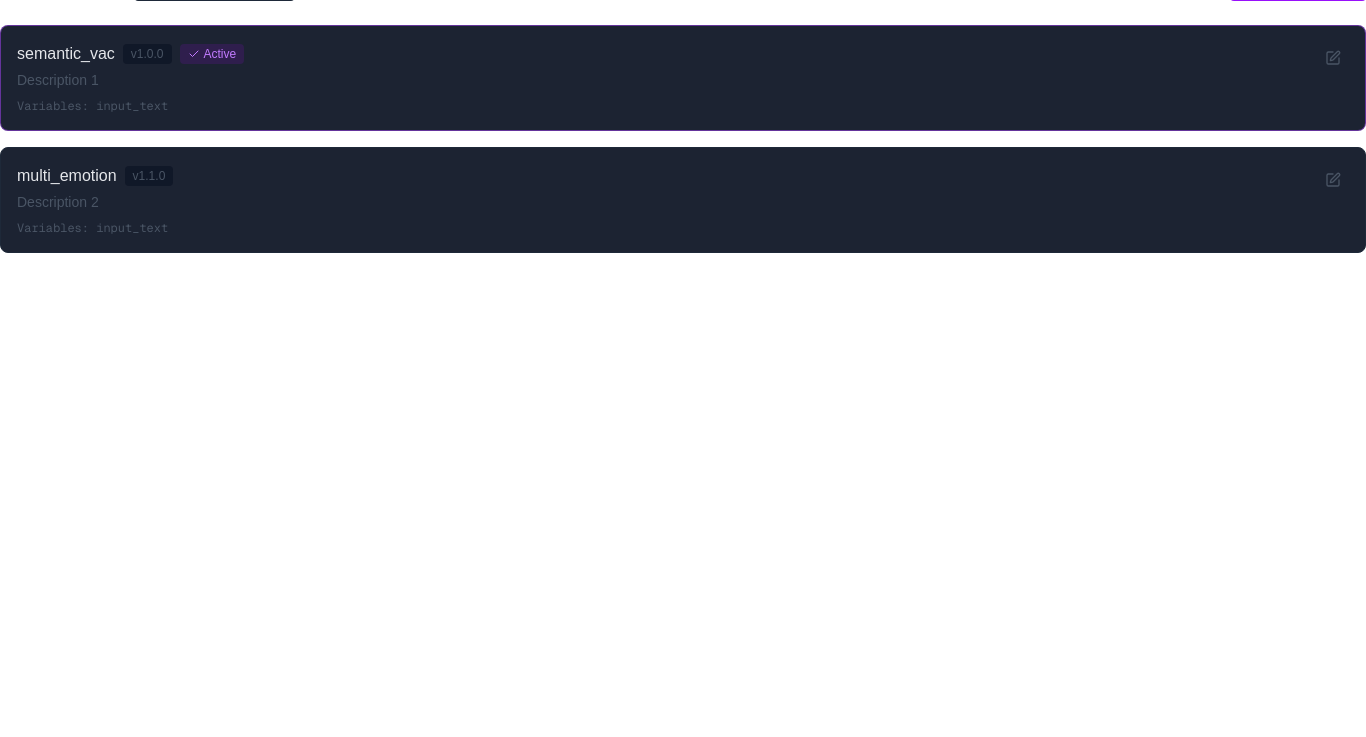
Scenario: PromptTemplatesTab › handles test render
Click the button with test id "edit-btn-uuid-1". click: (1333, 58)
box: [1317,42,1349,74]
(page scrolled)
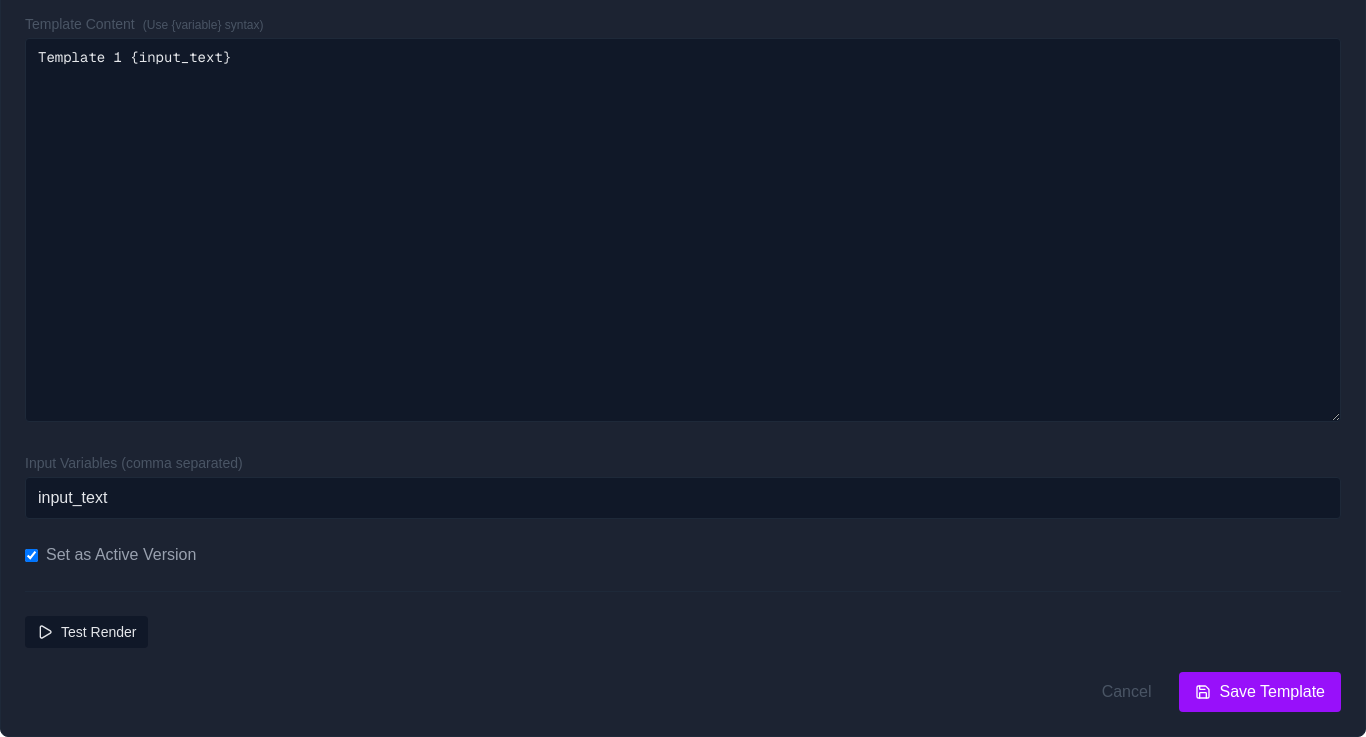
Click the button "Test Render". click: (87, 632)
box: [25,616,148,648]
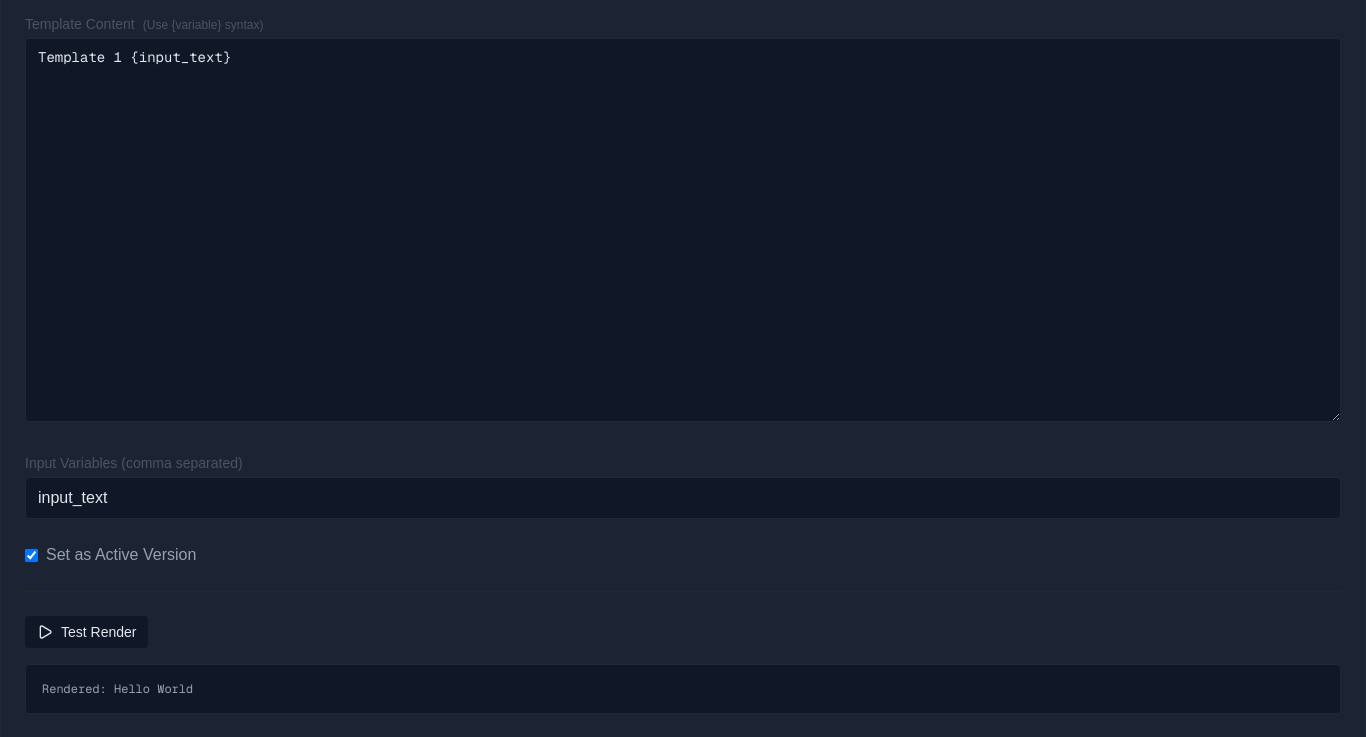
Now the text "Rendered: Hello World" is shown, box [25,664,1341,714]
